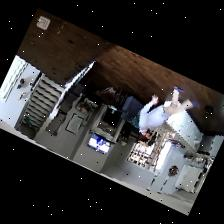person: (139, 86, 199, 141), (97, 136, 105, 148)
